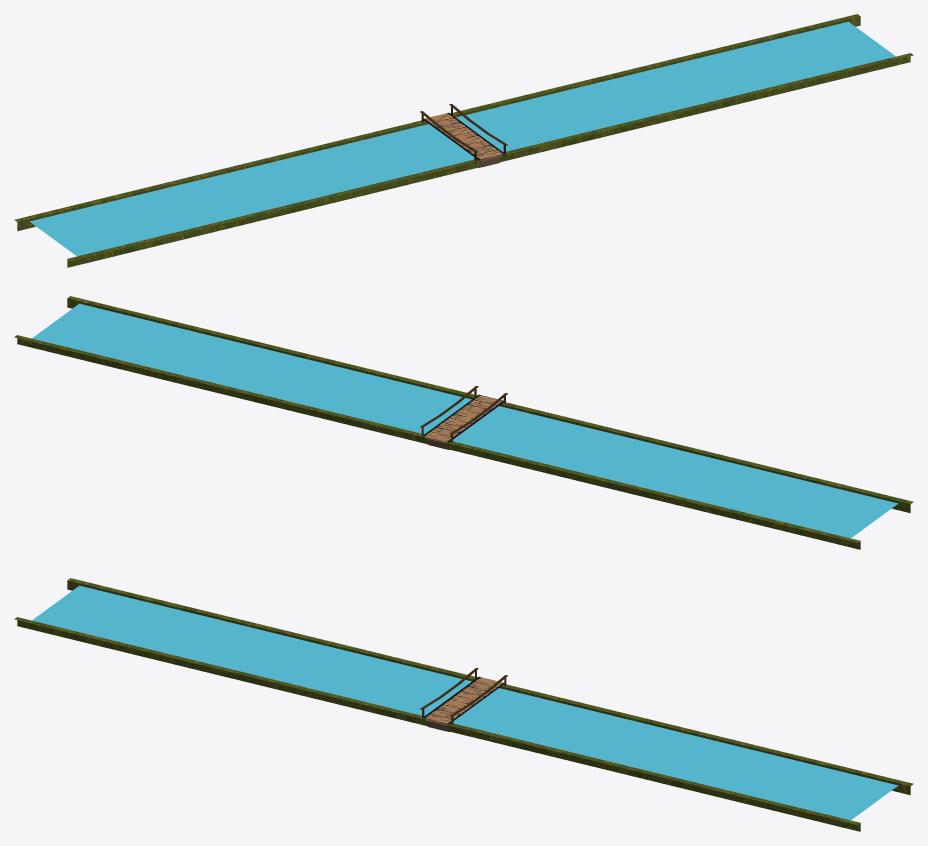
The model's file is FloorBridge.glb.
The picture shows the model from 3 angles, top to bottom: view 1: azimuth 30°, elevation 25°; view 2: azimuth 150°, elevation 25°; view 3: azimuth 330°, elevation 25°; orthographic projection.
Parts seen in each view (by area): view 1: CaminhoAgua4; view 2: CaminhoAgua4; view 3: CaminhoAgua4.
Boxes of the visible parts, box(x1,y1,x2,y2) form: CaminhoAgua4: box(14, 14, 913, 267); CaminhoAgua4: box(14, 296, 913, 549); CaminhoAgua4: box(14, 578, 913, 831).
Bounding box in the file's own units: 17.24 × 0.3701 × 2.
Materials: 5 (3 with a texture image).
